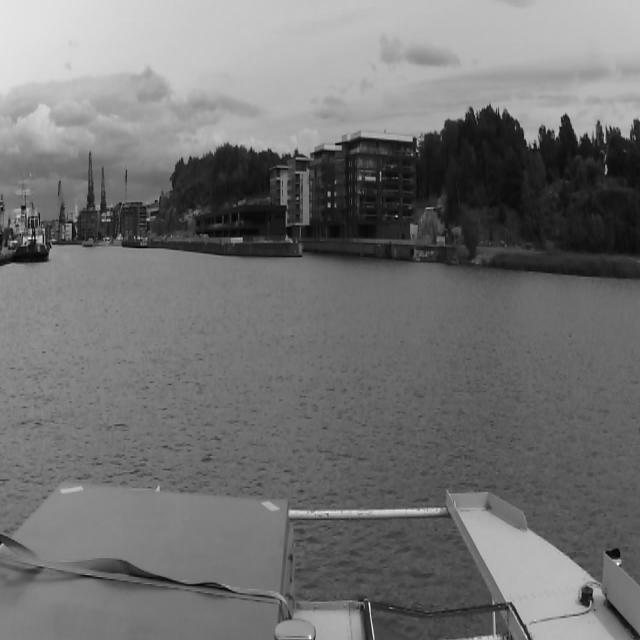ship: (18, 191, 54, 258)
